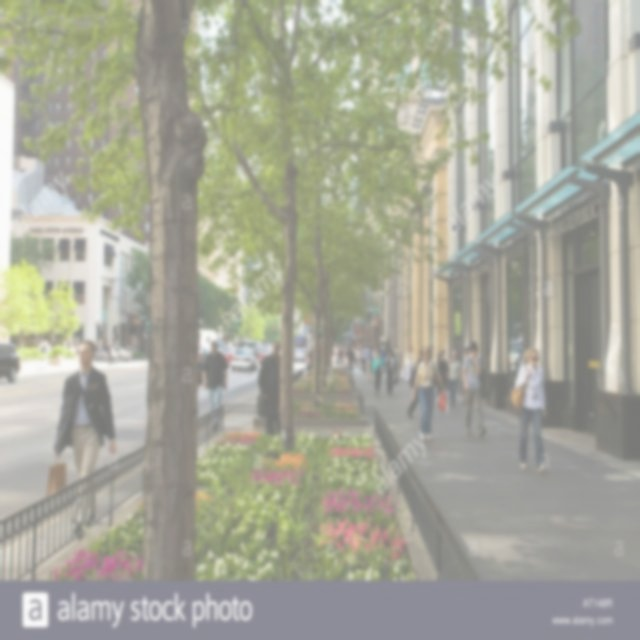pessoa: (52, 340, 117, 540), (514, 348, 549, 473), (410, 344, 450, 442), (255, 340, 288, 446), (201, 339, 230, 432), (462, 341, 486, 438), (330, 342, 380, 374), (406, 345, 424, 420), (28, 336, 82, 356), (446, 348, 462, 408), (383, 348, 400, 397), (370, 348, 384, 397), (436, 349, 448, 399), (392, 344, 403, 384), (404, 346, 414, 384), (403, 344, 413, 382), (513, 346, 525, 376), (364, 344, 373, 382), (94, 342, 110, 360), (360, 342, 368, 374), (347, 346, 355, 374), (384, 345, 396, 361), (336, 344, 344, 368), (109, 344, 118, 365), (106, 345, 115, 365), (303, 346, 310, 366), (309, 346, 314, 372), (380, 344, 387, 361), (371, 344, 378, 360), (464, 346, 471, 358), (125, 342, 131, 350)
